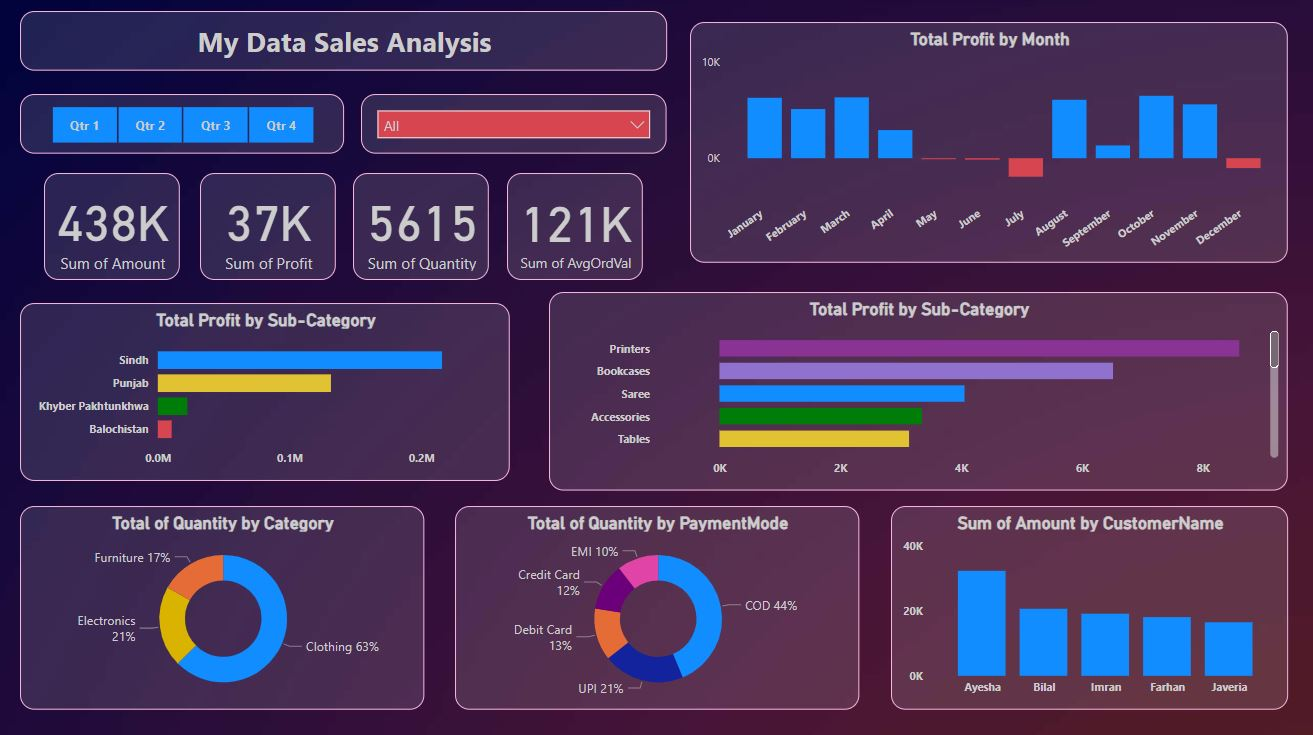

The page's visual inventory and layout, read from the dashboard file:
{"tool":"powerbi","page":{"name":"Page 1","canvas":[1280,720],"ordinal":0},"visuals":[{"type":"columnChart","title":"Total Profit by Month","fields":{"Category":["Orders.Order Date.Variation.Date Hierarchy.Month"],"Y":["Sum(Details.Profit)"]},"box":[672.6,23.3,581.2,234.2],"z":0},{"type":"textbox","box":[21.4,12.6,628.8,58.3],"z":1000},{"type":"barChart","title":"Total Profit by Sub-Category","fields":{"Category":["Details.Sub-Category"],"Y":["Sum(Details.Profit)"]},"box":[535.5,285.7,718.2,193.4],"z":2000},{"type":"donutChart","title":"Total of Quantity by Category","fields":{"Category":["Details.Category"],"Y":["Sum(Details.Quantity)"]},"box":[21.4,493.7,392.6,198.3],"z":3000},{"type":"donutChart","title":"Total of Quantity by PaymentMode","fields":{"Category":["Details.PaymentMode"],"Y":["Sum(Details.Quantity)"]},"box":[444.2,493.7,392.6,198.3],"z":4000},{"type":"card","fields":{"Values":["Sum(Details.Amount)"]},"box":[44.7,170.1,132.2,104],"z":5000},{"type":"card","fields":{"Values":["Sum(Details.Profit)"]},"box":[196.3,170.1,132.2,104],"z":6000},{"type":"card","fields":{"Values":["Sum(Details.Quantity)"]},"box":[345,170.1,132.2,104],"z":7000},{"type":"card","fields":{"Values":["Sum(Details.AvgOrdVal)"]},"box":[494.7,170.1,132.2,104],"z":8000},{"type":"barChart","title":"Total Profit by Sub-Category","fields":{"Y":["Sum(Details.Amount)"],"Category":["Orders.State"]},"box":[21.4,296.4,476.2,173],"z":9000},{"type":"columnChart","fields":{"Category":["Orders.CustomerName"],"Y":["Sum(Details.Amount)"]},"box":[867.9,493.7,385.8,198.3],"z":10000},{"type":"slicer","fields":{"Values":["Orders.Order Date.Variation.Date Hierarchy.Quarter"]},"box":[21.4,93.3,314.9,58.3],"z":11000},{"type":"slicer","fields":{"Values":["Orders.State"]},"box":[352.8,93.3,297.4,58.3],"z":12000}]}

Visuals, with their boxes in screenshot pixels (x1, y1, x2, y2), scaled from the page's 1280x720 canvas onto the 1313x735 screenshot:
"Total Profit by Month" columnChart: left=690, top=24, right=1286, bottom=263
textbox: left=22, top=13, right=667, bottom=72
"Total Profit by Sub-Category" barChart: left=549, top=292, right=1286, bottom=489
"Total of Quantity by Category" donutChart: left=22, top=504, right=425, bottom=706
"Total of Quantity by PaymentMode" donutChart: left=456, top=504, right=858, bottom=706
card - Sum(Details.Amount): left=46, top=174, right=181, bottom=280
card - Sum(Details.Profit): left=201, top=174, right=337, bottom=280
card - Sum(Details.Quantity): left=354, top=174, right=490, bottom=280
card - Sum(Details.AvgOrdVal): left=507, top=174, right=643, bottom=280
"Total Profit by Sub-Category" barChart: left=22, top=303, right=510, bottom=479
columnChart - Orders.CustomerName x Sum(Details.Amount): left=890, top=504, right=1286, bottom=706
slicer - Orders.Order Date.Variation.Date Hierarchy.Quarter: left=22, top=95, right=345, bottom=155
slicer - Orders.State: left=362, top=95, right=667, bottom=155
